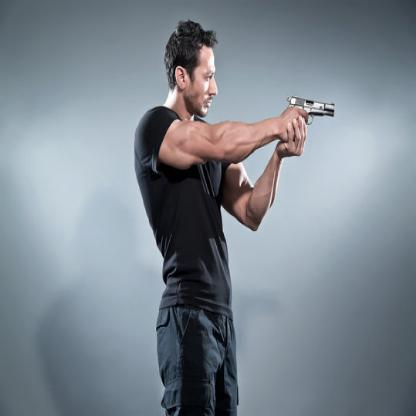handgun: (285, 94, 336, 150)
